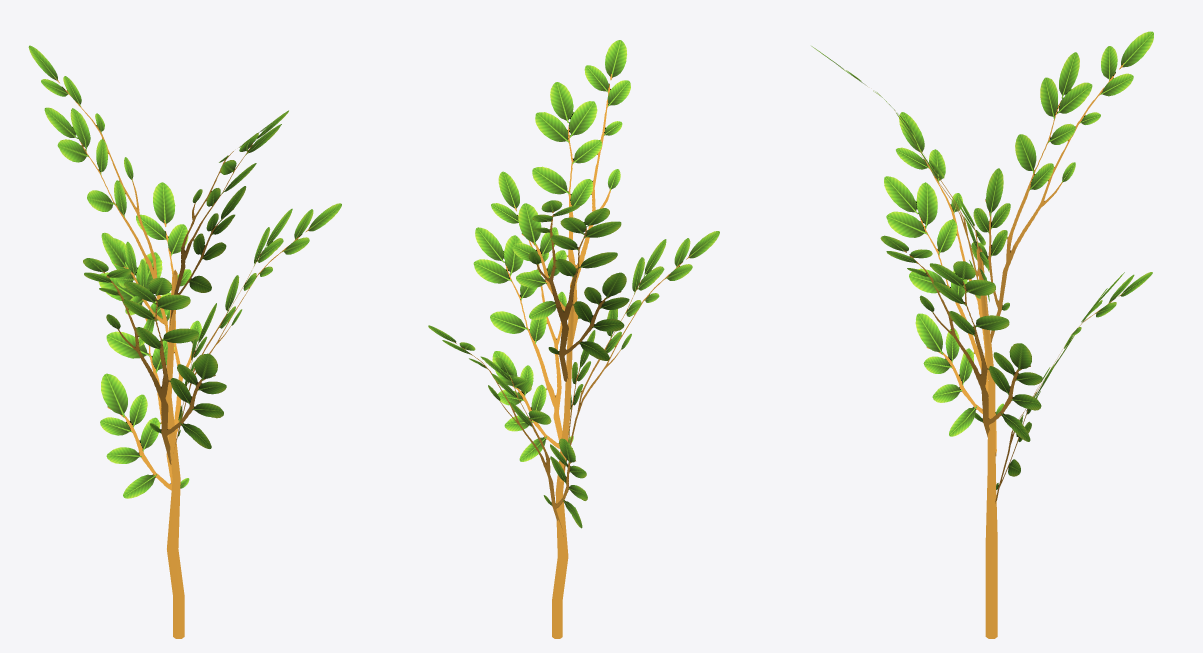
Rendered from Plant_03.fbx.
3 views of the same model, side by side, from view 1: azimuth 30°, elevation 25°; view 2: azimuth 150°, elevation 25°; view 3: azimuth 270°, elevation 25° (orthographic). The views are drawn at different scales.
Visible parts, largest first — view 1: SM_Plant_02.015; view 2: SM_Plant_02.015; view 3: SM_Plant_02.015.
Boxes of the visible parts, x1,y1,x2,y2 form: SM_Plant_02.015: (28, 45, 341, 638); SM_Plant_02.015: (428, 40, 719, 638); SM_Plant_02.015: (811, 31, 1153, 638).
Bounding box in the file's own units: 101 × 203 × 122.
